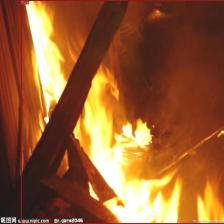fire: (20, 0, 224, 224)
